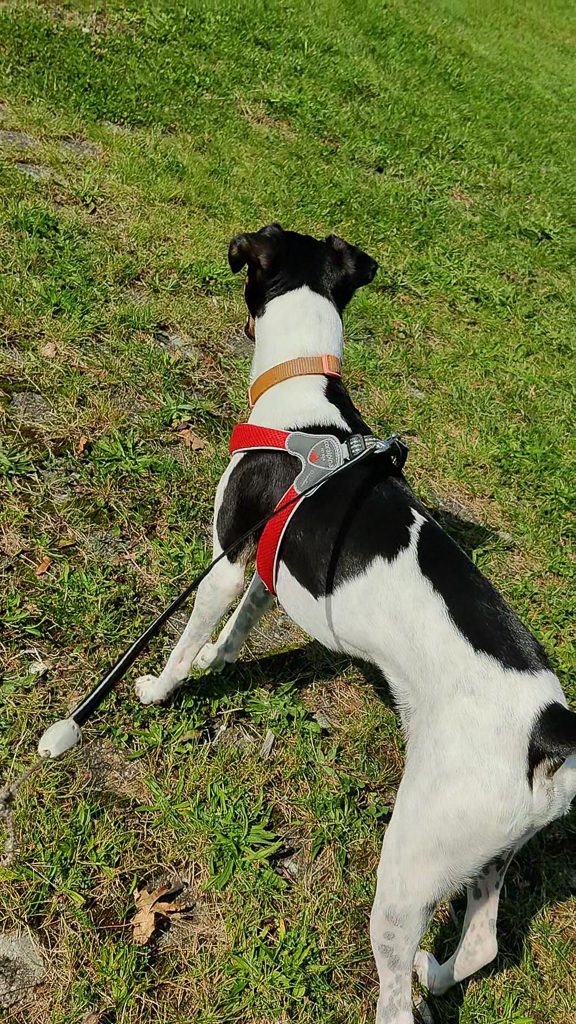Dog: (116, 207, 576, 1024)
